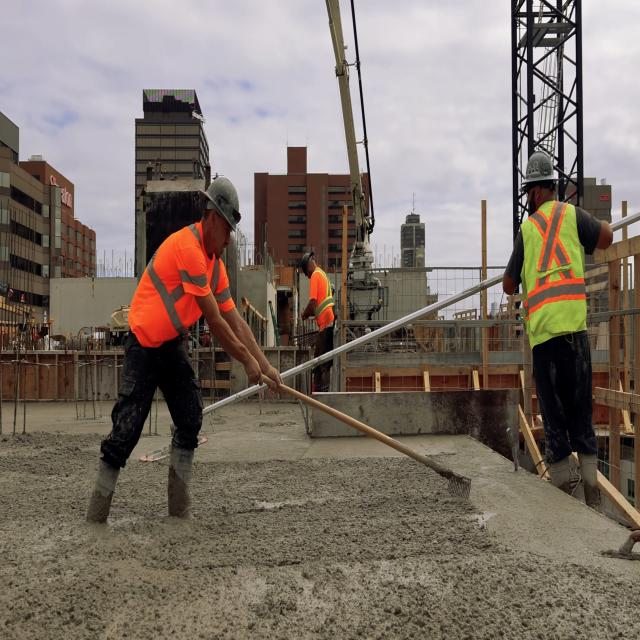Boots: (548, 441, 602, 507), (84, 453, 120, 538), (166, 445, 195, 535)
Helmet: (199, 174, 242, 235), (520, 146, 558, 184), (301, 252, 310, 270)
Vest: (127, 222, 236, 363), (522, 202, 591, 350), (309, 268, 335, 330)
